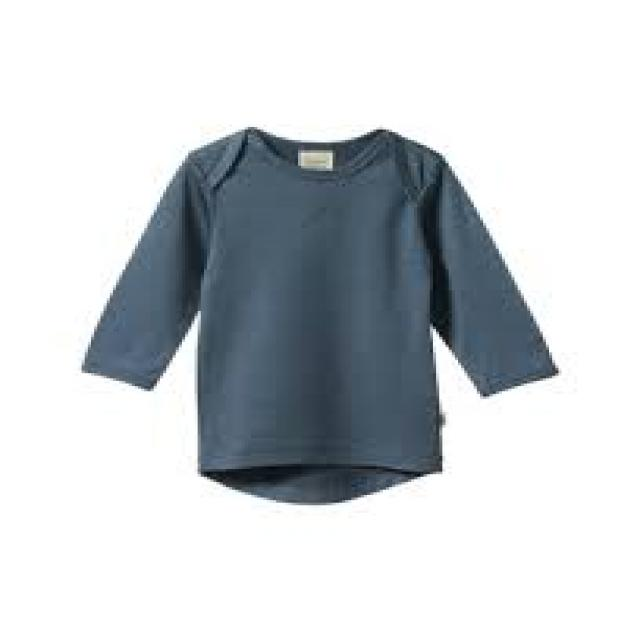plain: (74, 110, 580, 511)
